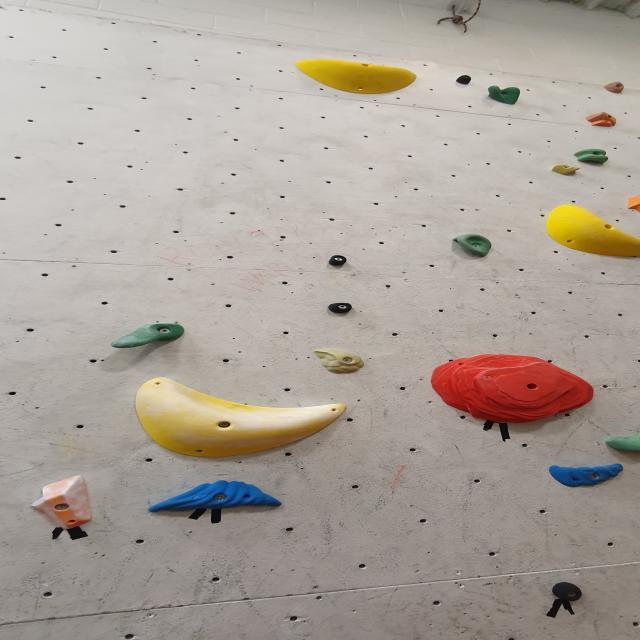Crimp: (430, 354, 598, 422), (146, 480, 287, 514), (546, 465, 626, 487), (312, 347, 367, 374), (585, 112, 619, 128)
Jug: (108, 321, 188, 349), (451, 235, 493, 259), (605, 434, 640, 454), (486, 87, 521, 106), (574, 150, 611, 167), (602, 81, 626, 94)
Pinch: (36, 474, 91, 539), (551, 580, 585, 600), (551, 163, 580, 175), (328, 303, 356, 315), (626, 195, 640, 215), (326, 254, 349, 266), (455, 75, 474, 85)
Sloper: (132, 380, 350, 460), (543, 206, 638, 257), (294, 58, 421, 96)
